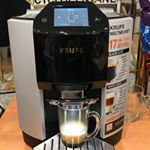cups: (52, 100, 103, 148)
